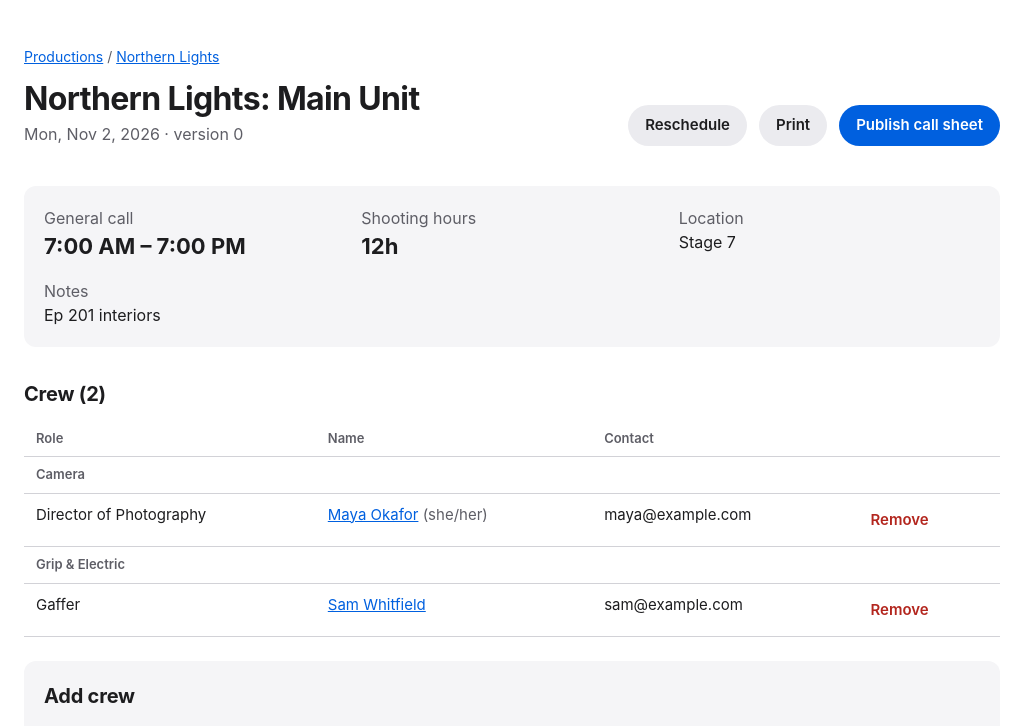
it: ShootDayView › tells the user when their edit is stale instead of overwriting
This screenshot has width=1024, height=726.
Click the button "Reschedule".
click(688, 125)  # box [628,105,747,146]
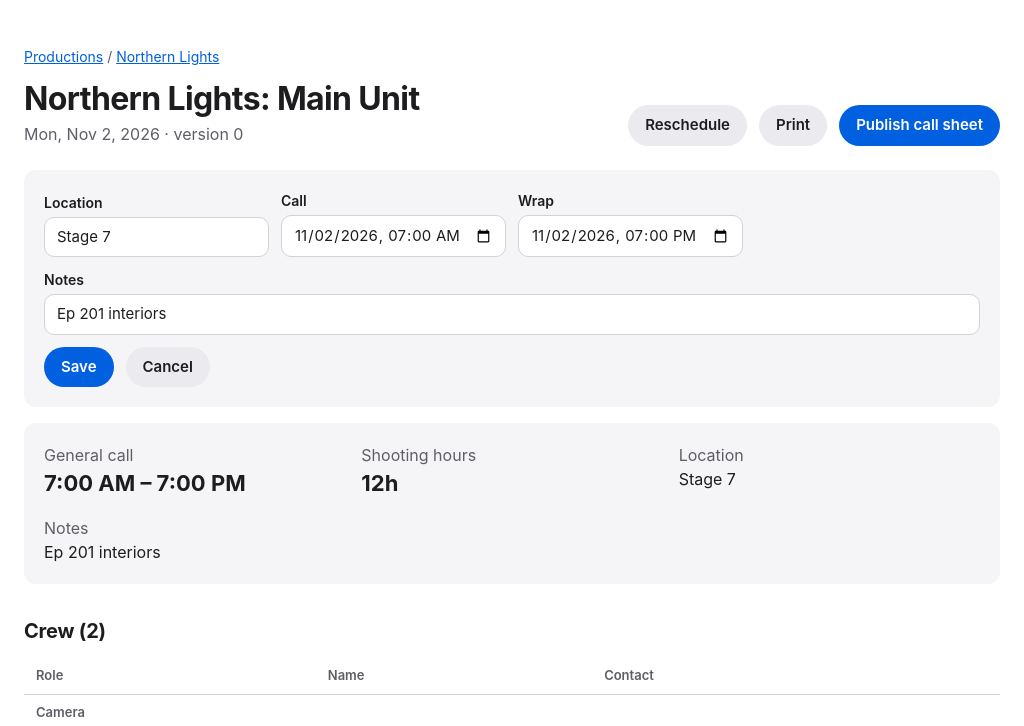
Submit the form named "Reschedule shoot day", box [24,170,1000,407]
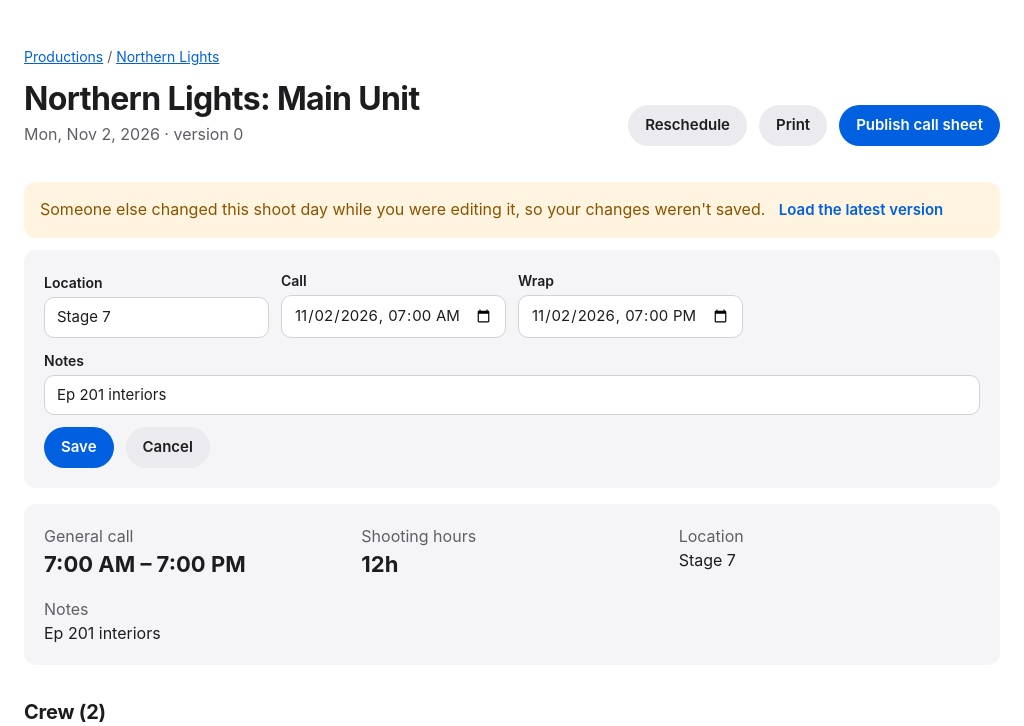
Expected: the text "Someone else changed this shoot day" is shown, [40,199,770,219]
